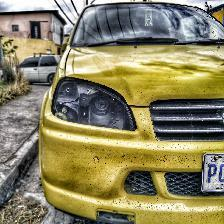head_lamp: (26, 53, 149, 153)
